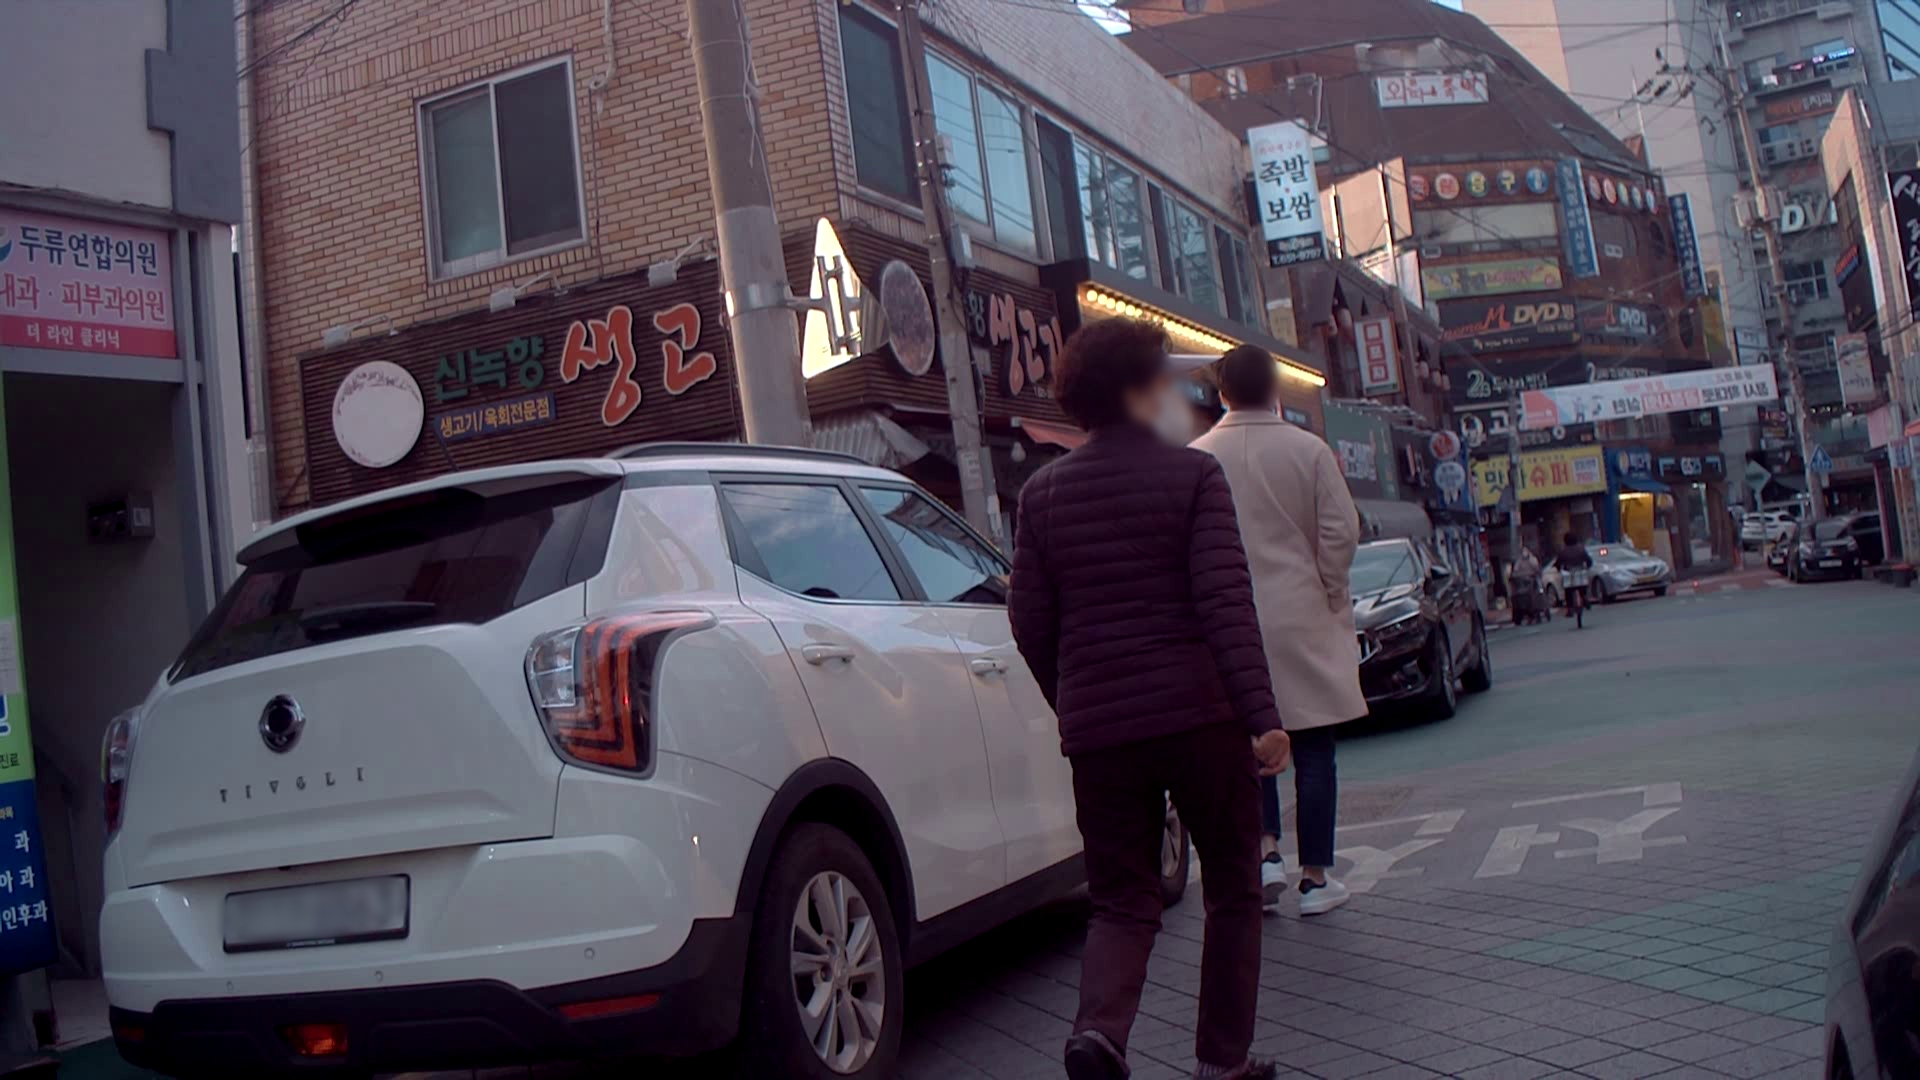trafficSignTri: (796, 215, 897, 382), (1808, 444, 1836, 472)
